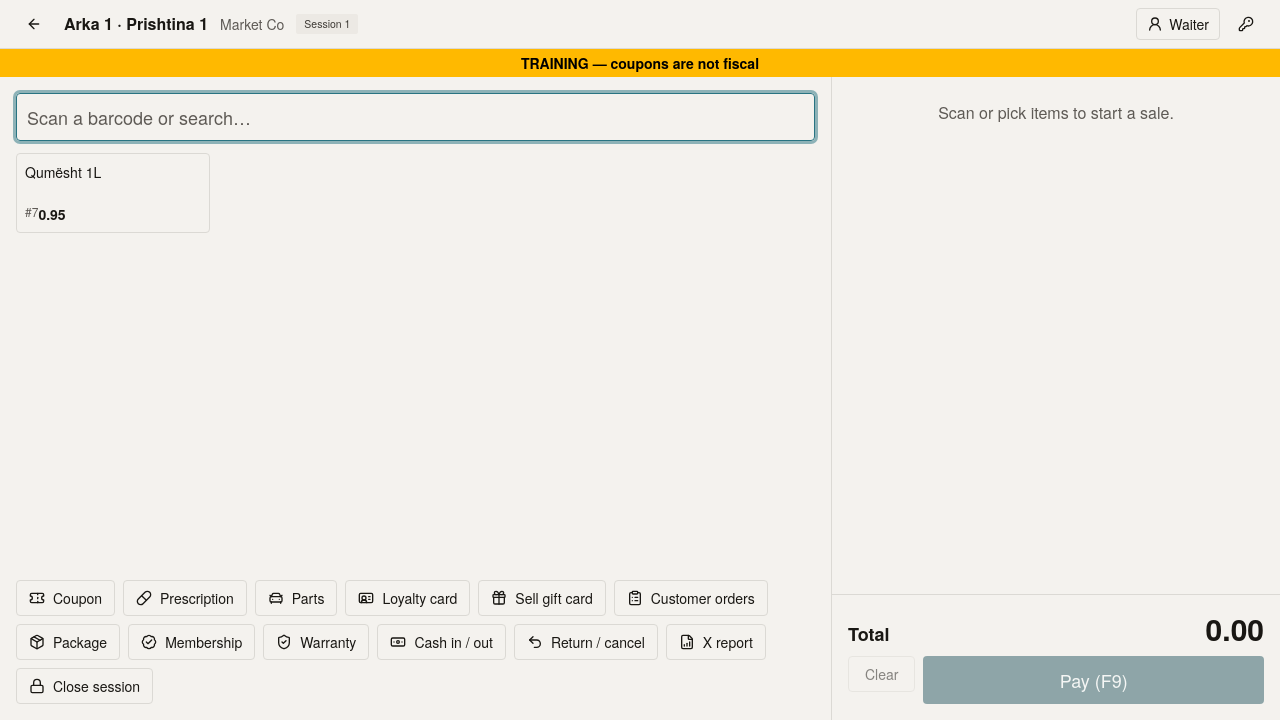
Test: Till — programs, loyalty and gift cards (P2) › pays with a gift card: shows its balance and sends the number as the reference
This screenshot has width=1280, height=720.
In the field labelled "Scan a barcode or search…": [416, 117] box [16, 93, 815, 141], type "3830001"
Press Enter in the field named "Scan a barcode or search…", box [16, 93, 815, 141]
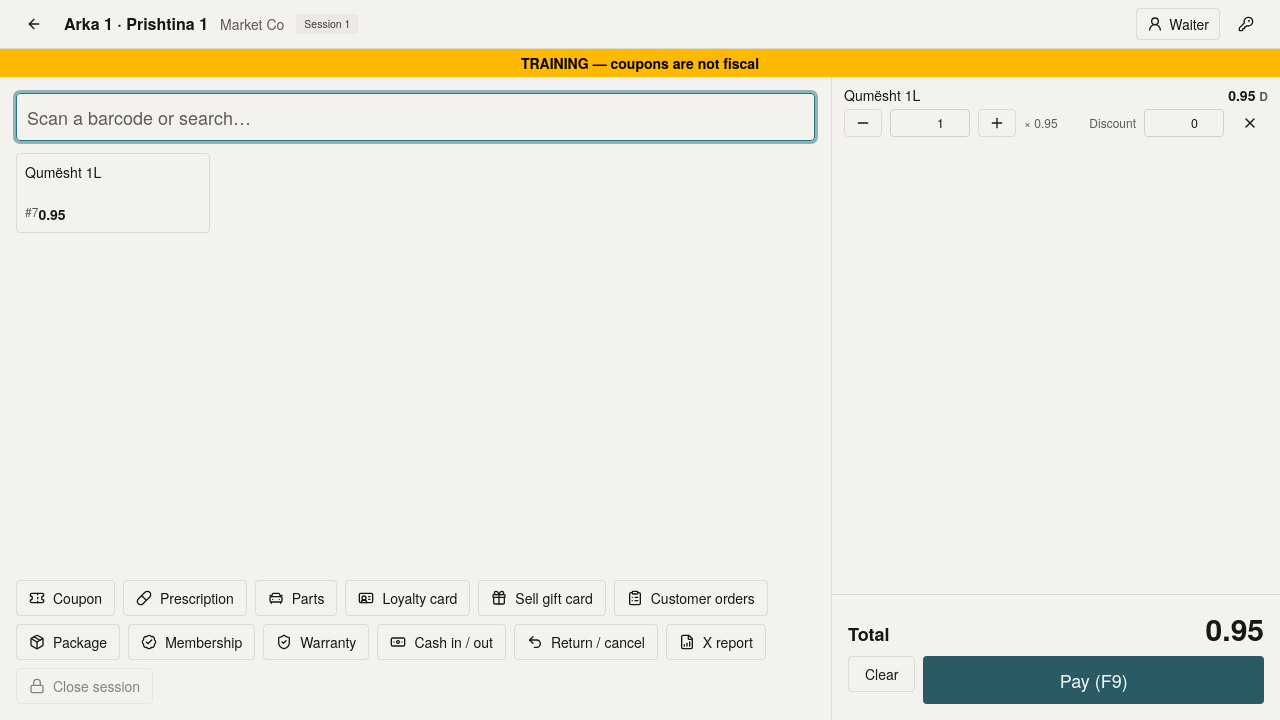
Now the button "Pay (F9)" is enabled
Click the button "Pay (F9)": [1094, 680] box [924, 656, 1264, 704]
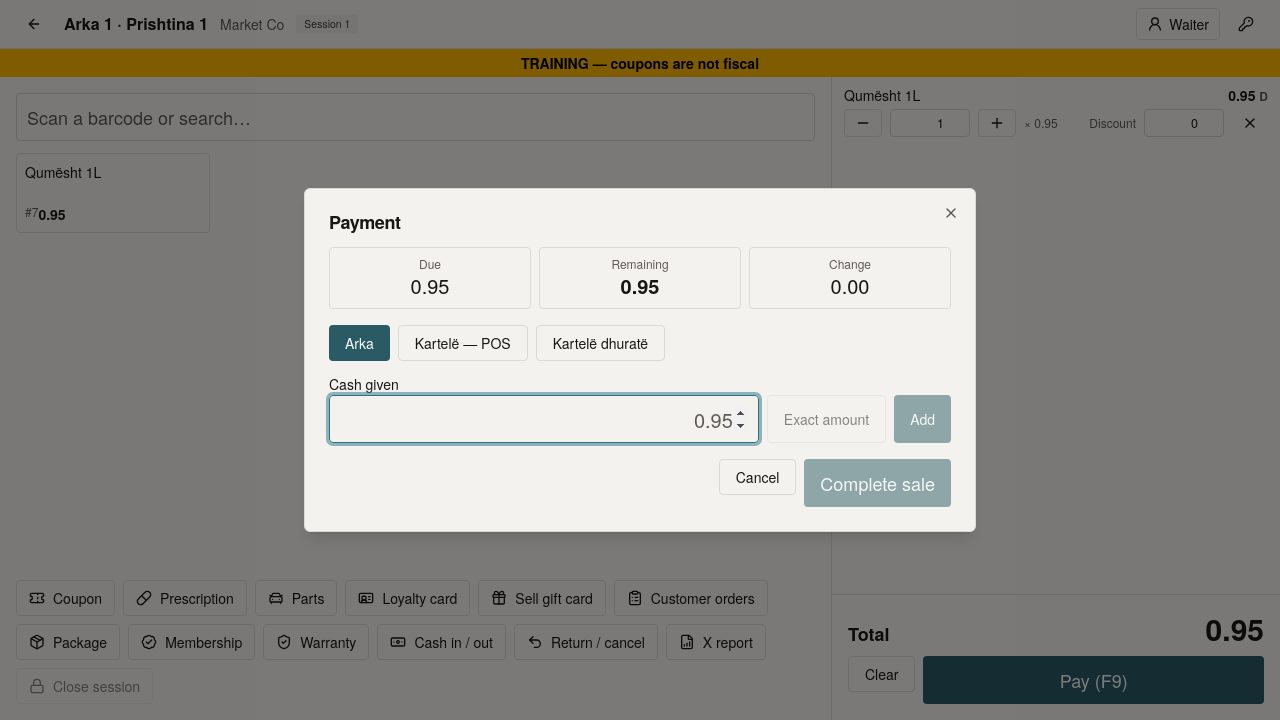
Click the button "Kartelë dhuratë": [600, 343] box [536, 325, 665, 361]
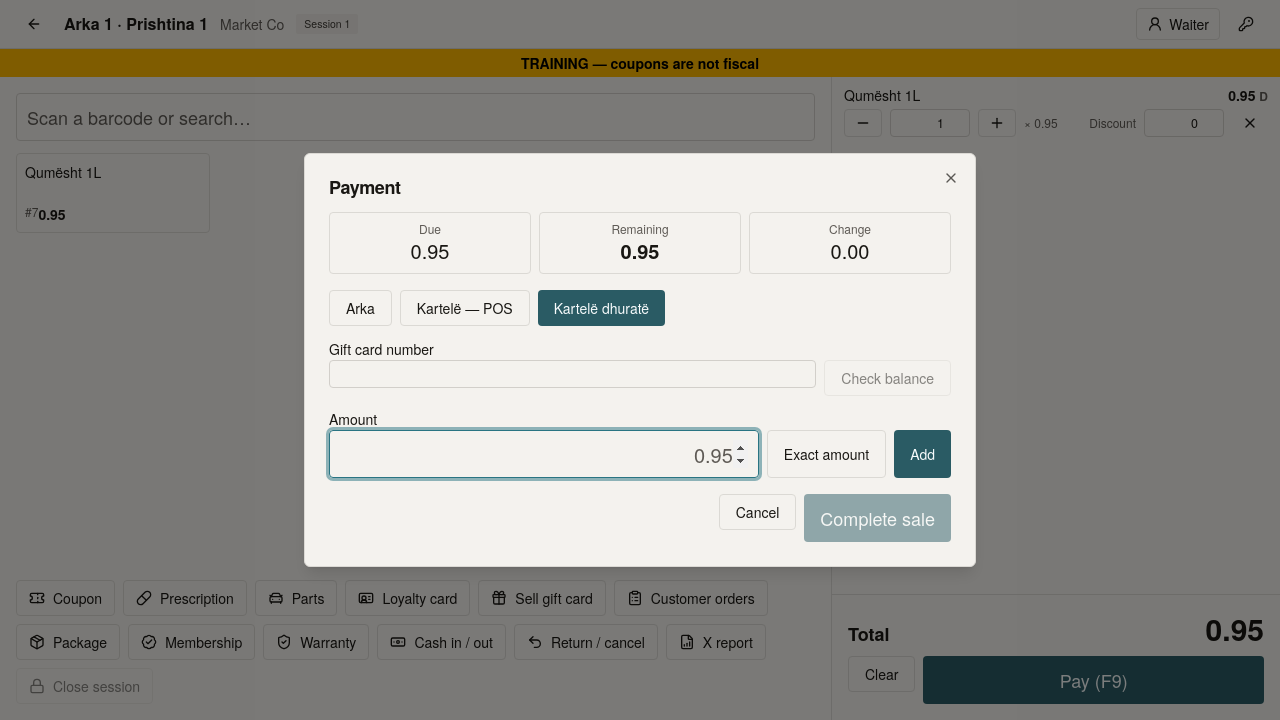
In the field labelled "Gift card number": [573, 374] box [329, 360, 816, 388], type "GC-1"
Click the button "Check balance": [888, 378] box [824, 360, 951, 396]
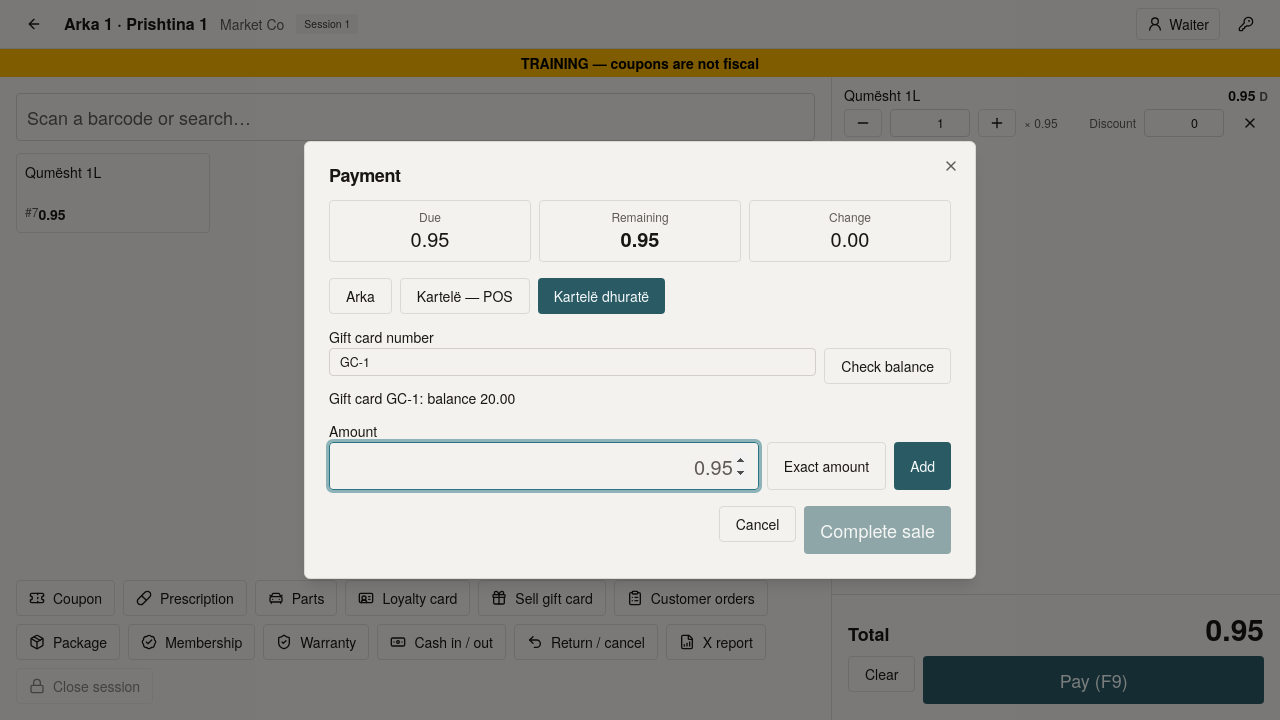
Now the button "Exact amount" is enabled
Now the text with test id "gift-card-balance" reads "Gift card GC-1: balance 20.00", box [329, 388, 515, 408]
Click the button "Exact amount": [826, 466] box [767, 442, 886, 490]
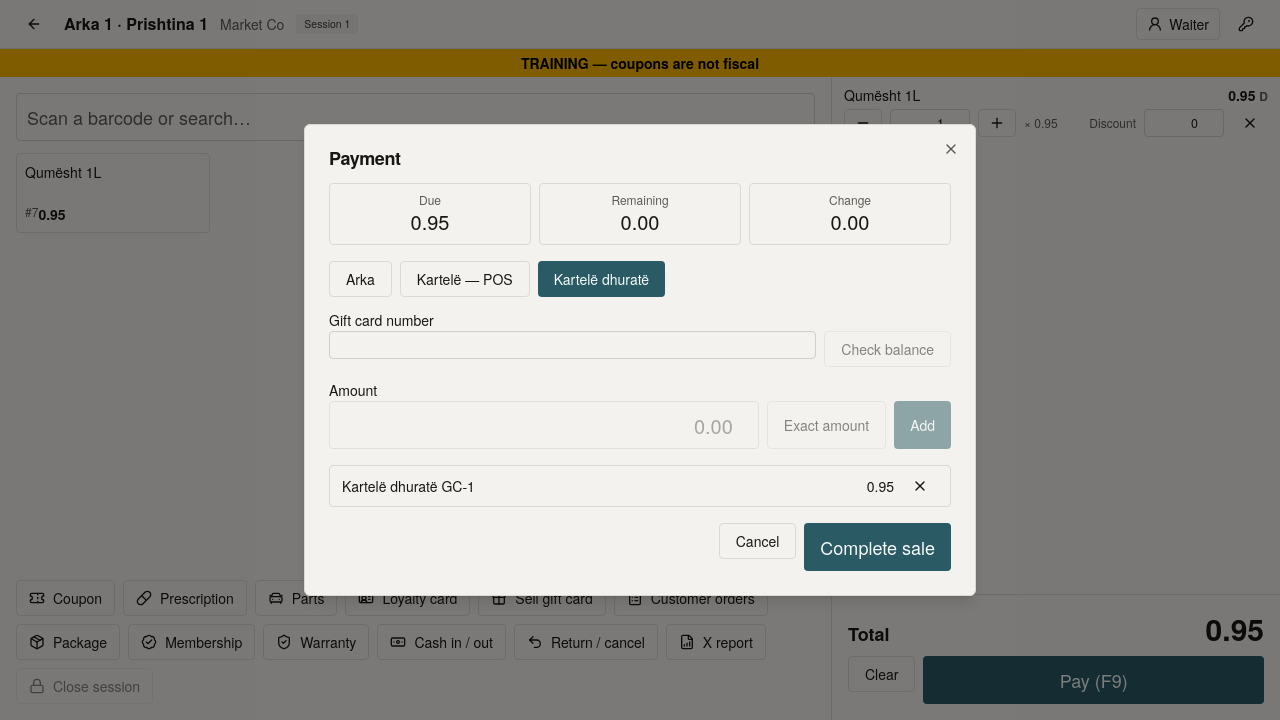
Now the button "Complete sale" is enabled
Click the button "Complete sale": [878, 547] box [804, 523, 951, 571]
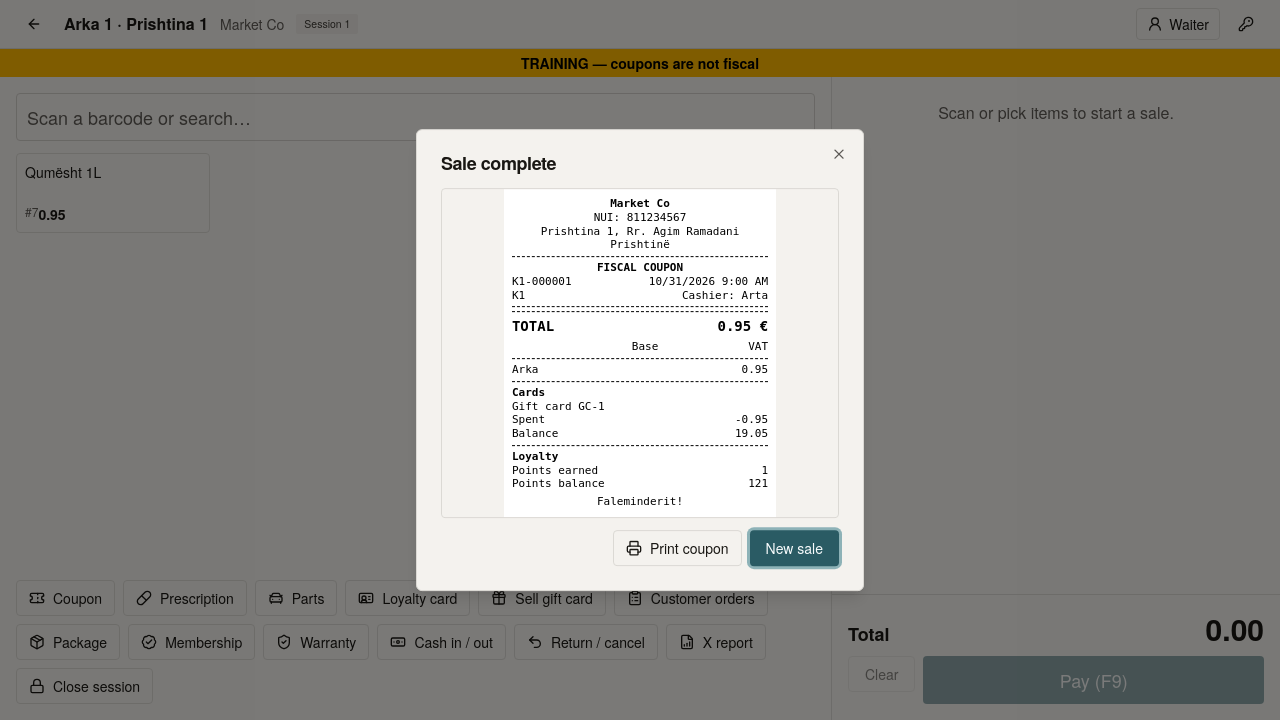
Now the text "Spent" is shown, box [512, 413, 545, 427]
Now the text "19.05" is shown, box [735, 427, 768, 441]
Now the text "121" is shown, box [748, 477, 768, 491]
